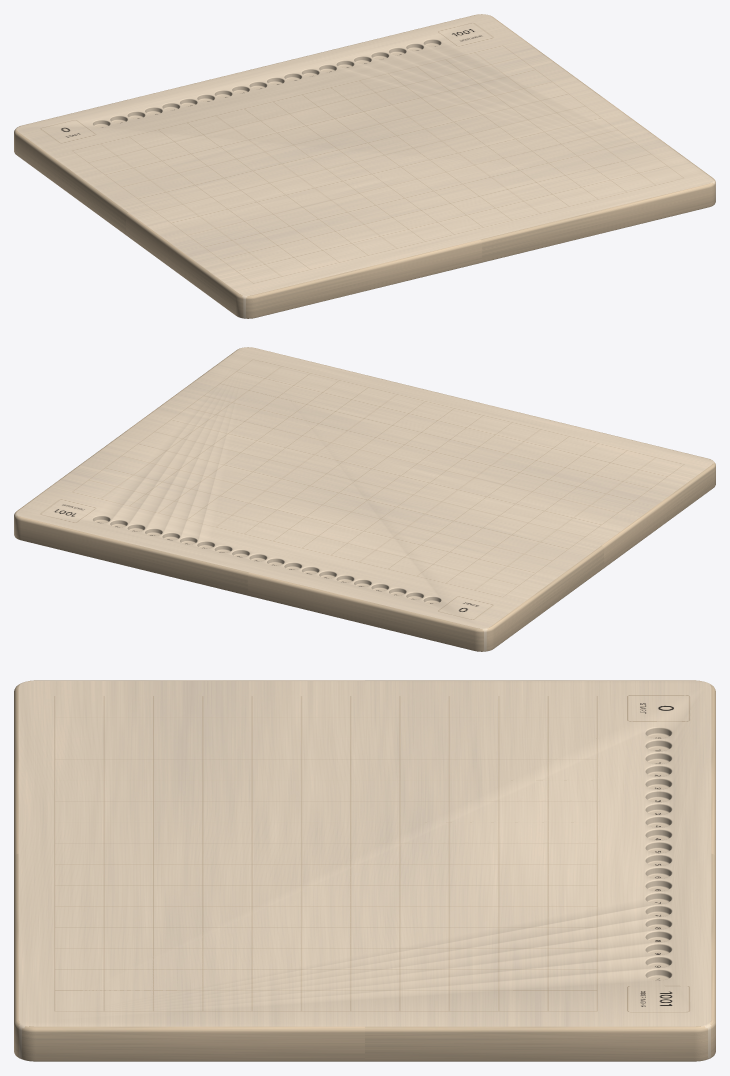
File: board.glb
The picture shows the model from 3 angles, top to bottom: view 1: azimuth 30°, elevation 25°; view 2: azimuth 150°, elevation 25°; view 3: azimuth 270°, elevation 25°; orthographic projection. The views are drawn at different scales.
Visible parts, largest first — view 1: Board; view 2: Board; view 3: Board.
Boxes of the visible parts, x1,y1,x2,y2 form: Board: [14, 14, 715, 318]; Board: [14, 347, 715, 651]; Board: [14, 680, 715, 1061].
Size of the model in its own units: 12.2 by 0.55 by 10.35.
2 materials, 2 textured.
